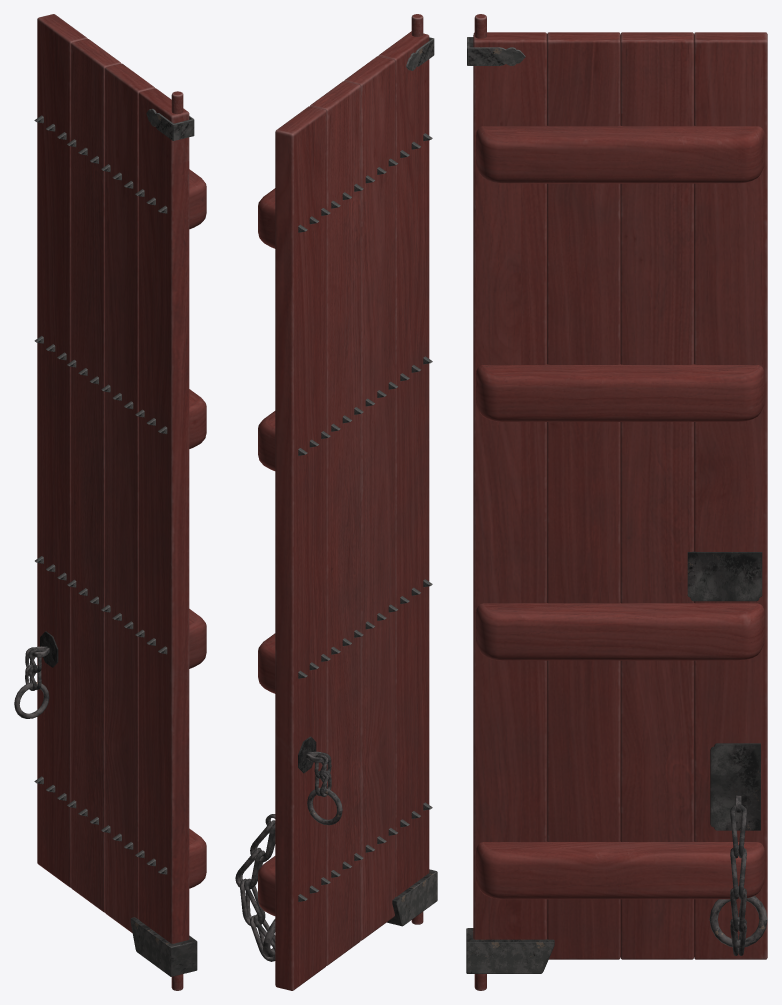
The model's file is SM_SJM_DoorB_01.fbx.
3 views of the same model, side by side, from view 1: azimuth 30°, elevation 25°; view 2: azimuth 150°, elevation 25°; view 3: azimuth 270°, elevation 25° (orthographic). The views are drawn at different scales.
Visible parts, largest first — view 1: SM_SJM_DoorB_01; view 2: SM_SJM_DoorB_01; view 3: SM_SJM_DoorB_01.
Part boxes in pixels (x1,y1,x2,y2): SM_SJM_DoorB_01: (14,14,206,990); SM_SJM_DoorB_01: (235,14,437,990); SM_SJM_DoorB_01: (466,14,767,990).
Bounding box in the file's own units: 47.89 × 111 × 394.
4 materials, 4 textured.
